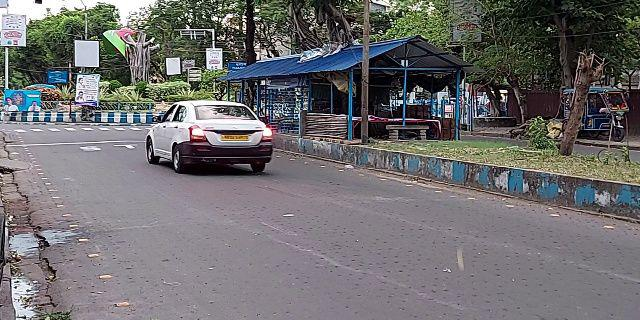Car: (139, 97, 284, 180)
